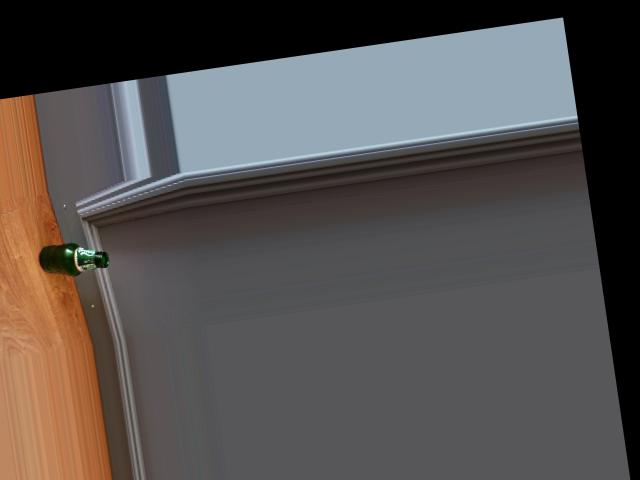beer: (37, 237, 110, 280)
